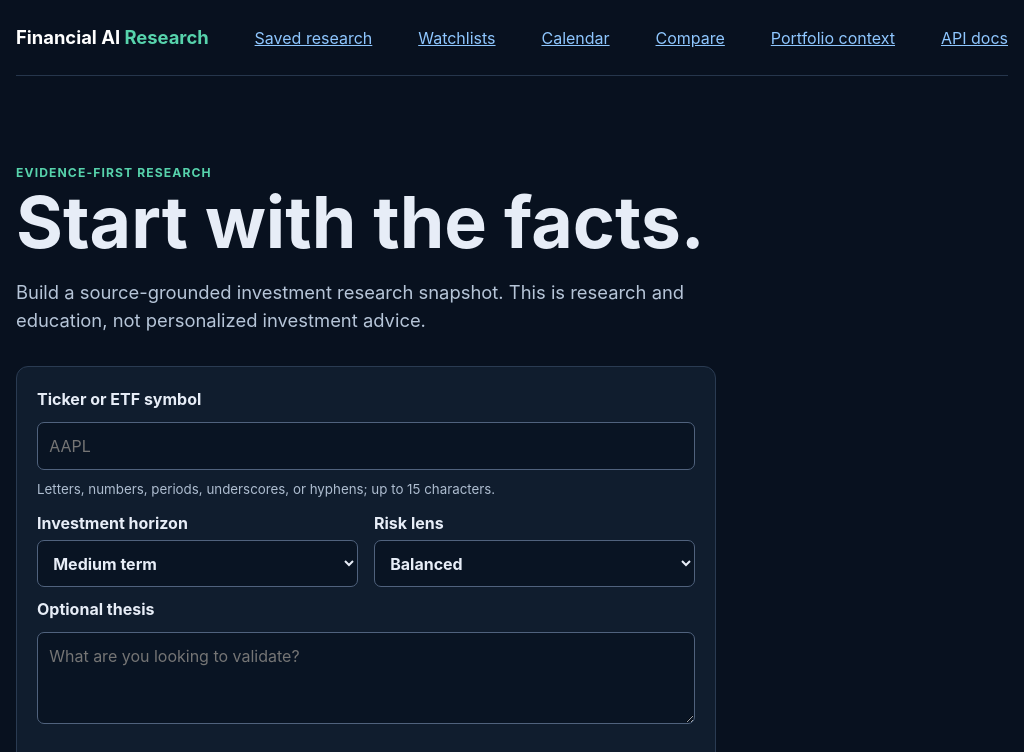
Test: research workspace › validates a ticker before starting research
The width and height of the screenshot is (1024, 752).
Type "bad ticker!" into the field labelled "Ticker or ETF symbol".
click(366, 446); type("bad ticker!")  # box [37,422,695,470]
(page scrolled)
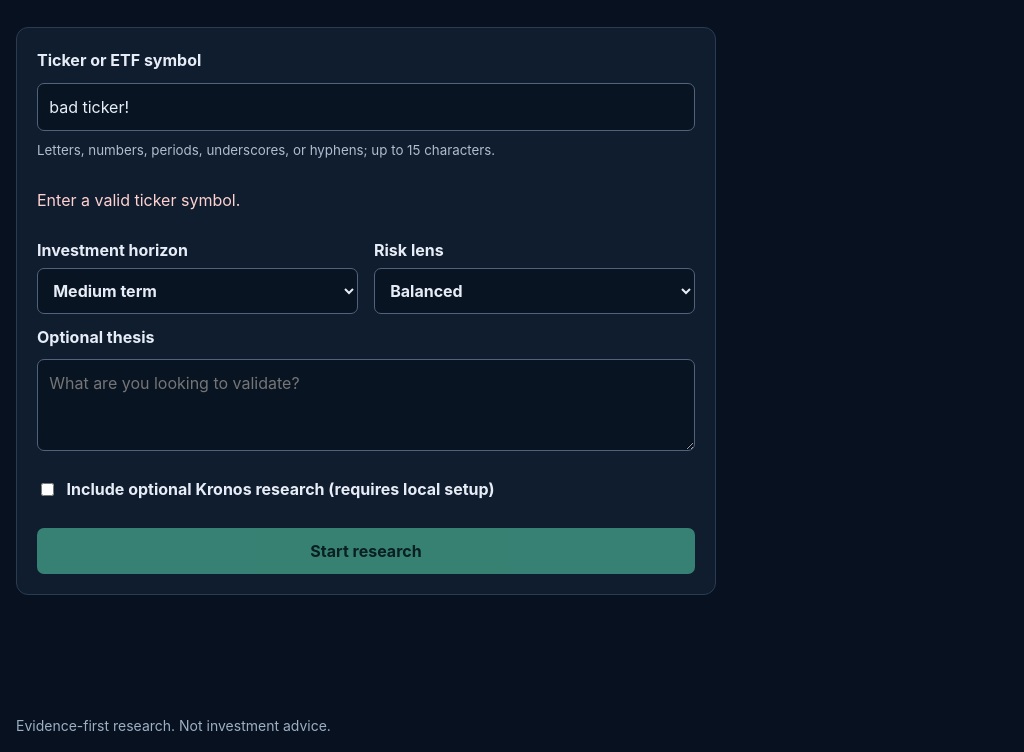
Check: the button "Start research" is disabled, box [37,528,695,574]
Check: the message shows "valid ticker", box [37,190,240,210]
